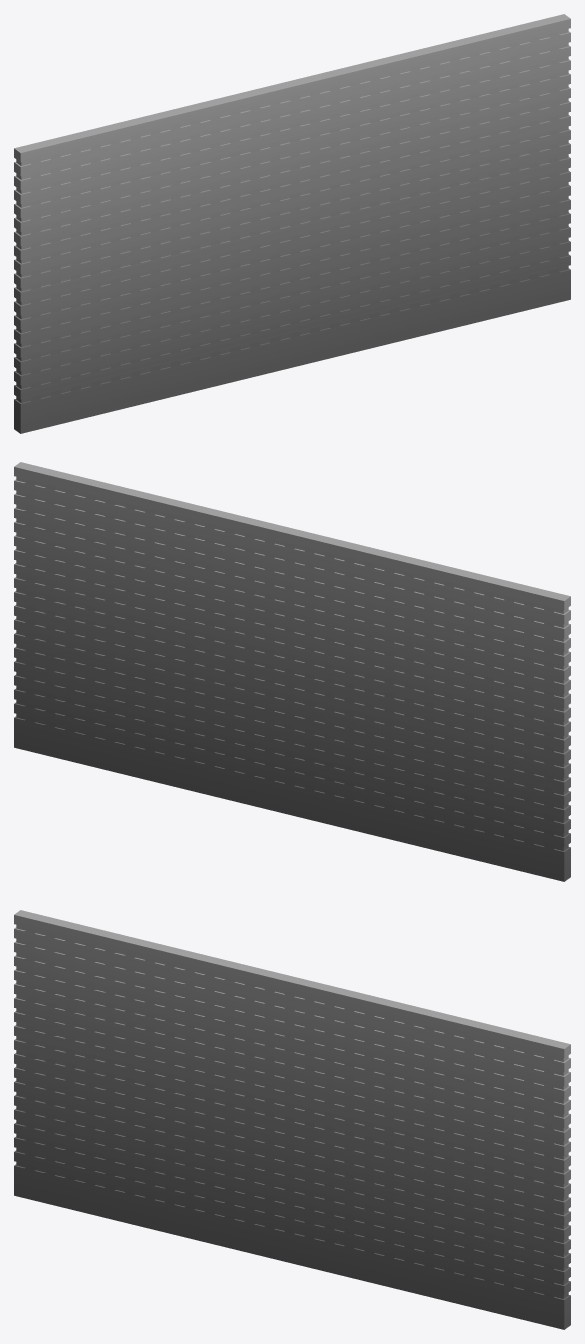
The model's file is frontdoor.fbx.
The picture shows the model from 3 angles, top to bottom: view 1: azimuth 30°, elevation 25°; view 2: azimuth 150°, elevation 25°; view 3: azimuth 330°, elevation 25°; orthographic projection.
Parts seen in each view (by area): view 1: Cube.001; view 2: Cube.001; view 3: Cube.001.
Part boxes in pixels (x1,y1,x2,y2): Cube.001: [14, 14, 570, 433]; Cube.001: [14, 462, 570, 881]; Cube.001: [14, 910, 570, 1329].
Bounding box in the file's own units: 396 × 193 × 8.2.
